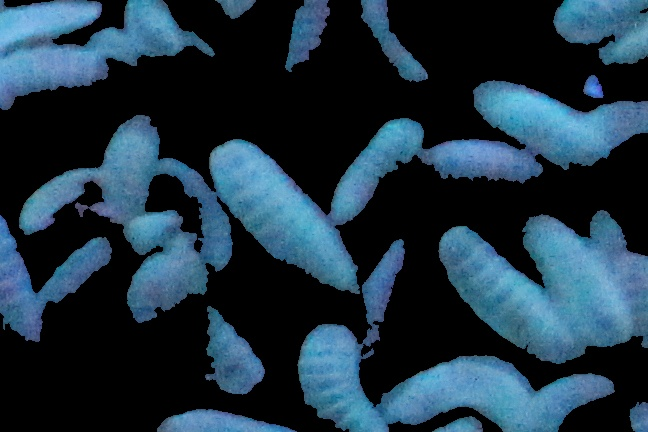larvae: (435, 203, 584, 362), (218, 134, 359, 291), (521, 211, 629, 343), (164, 268, 259, 390), (470, 78, 600, 156), (330, 109, 418, 221), (381, 363, 535, 422), (299, 322, 380, 432), (161, 153, 233, 270), (1, 41, 108, 105), (427, 136, 542, 195), (1, 194, 41, 346), (359, 1, 428, 89), (368, 250, 412, 377), (528, 369, 618, 431), (105, 106, 156, 211), (16, 171, 105, 230), (120, 248, 167, 338), (546, 1, 636, 47), (2, 3, 98, 42), (295, 1, 332, 81)
